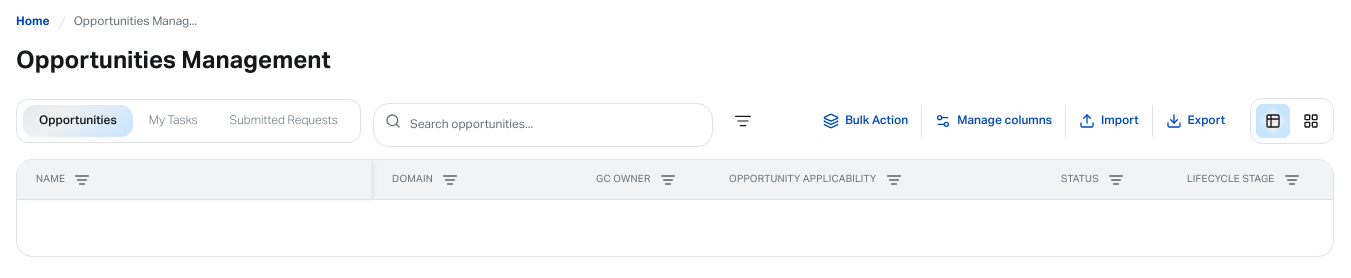
Test: OpportunityManagementModule › switches to My Tasks tab when clicked
Click the tab "My Tasks": coordinates (173, 121) x1=133 y1=105 x2=214 y2=137
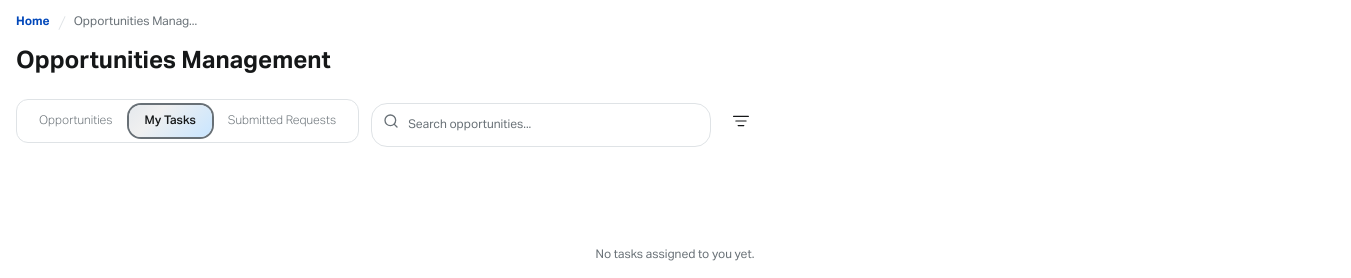
Now the text "No tasks assigned to you yet." is shown, box x1=596 y1=249 x2=754 y2=261
